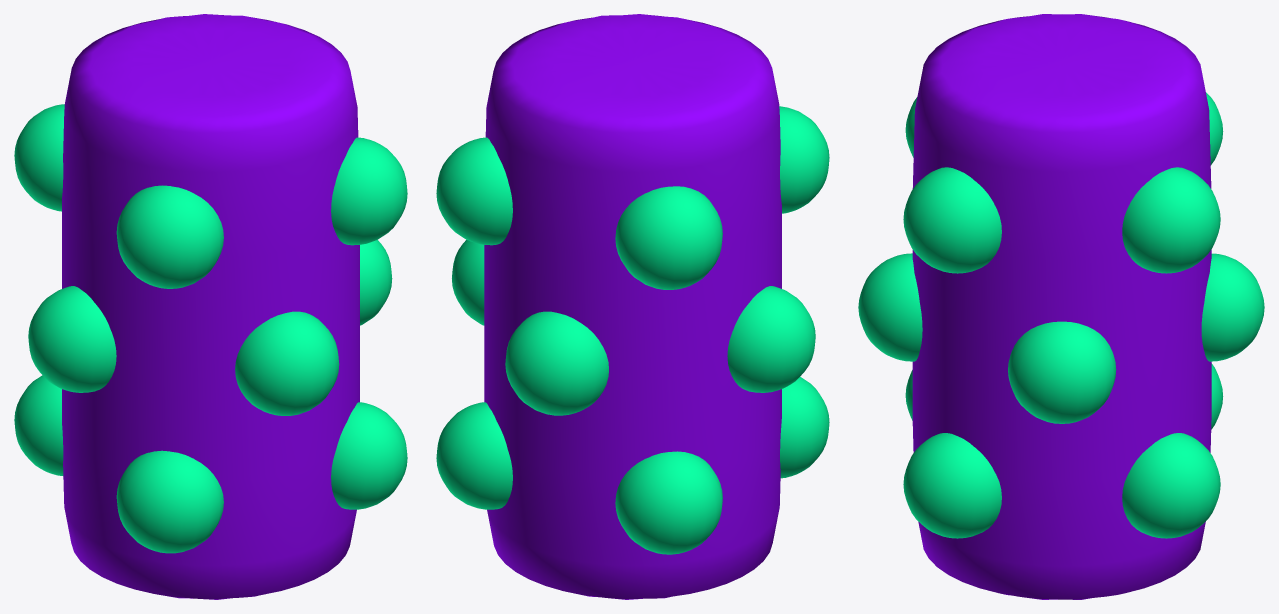
Rendered from Rolly.fbx.
3 renders of one model, left to right at view 1: azimuth 30°, elevation 25°; view 2: azimuth 150°, elevation 25°; view 3: azimuth 270°, elevation 25°, orthographic.
Parts seen in each view (by area): view 1: RollyRolly; view 2: RollyRolly; view 3: RollyRolly.
Part boxes in pixels (x1,y1,x2,y2): RollyRolly: (14, 14, 407, 599); RollyRolly: (436, 14, 829, 599); RollyRolly: (858, 14, 1264, 599).
Bounding box in the file's own units: 748 × 998 × 750.
